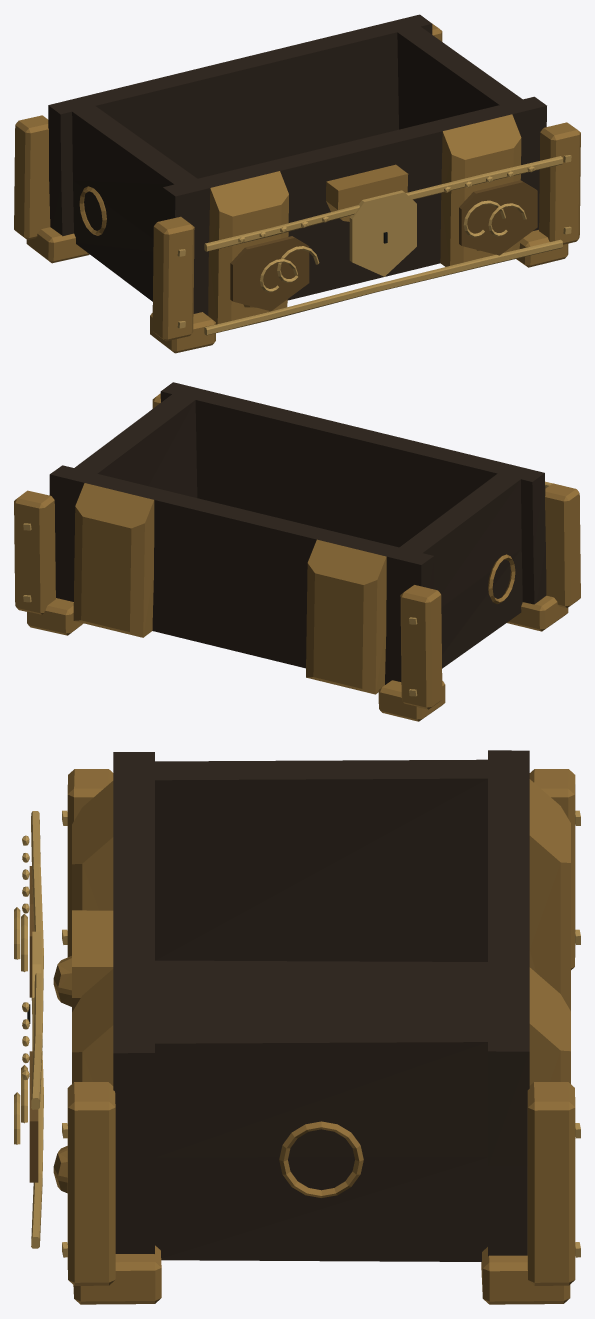
Rendered from gold-body.glb.
3 renders of one model, top to bottom at view 1: azimuth 30°, elevation 25°; view 2: azimuth 150°, elevation 25°; view 3: azimuth 270°, elevation 25°, orthographic. The views are drawn at different scales.
Parts seen in each view (by area): view 1: Wood, Gold; view 2: Wood, Gold; view 3: Wood, Gold.
Part boxes in pixels (bbox=[...]): Wood: bbox=[48, 14, 546, 315]; Gold: bbox=[14, 23, 580, 353]; Wood: bbox=[49, 382, 546, 684]; Gold: bbox=[14, 393, 580, 721]; Wood: bbox=[113, 750, 529, 1261]; Gold: bbox=[14, 769, 580, 1304].
Size of the model in its own units: 1.1 by 0.3705 by 0.7768.
